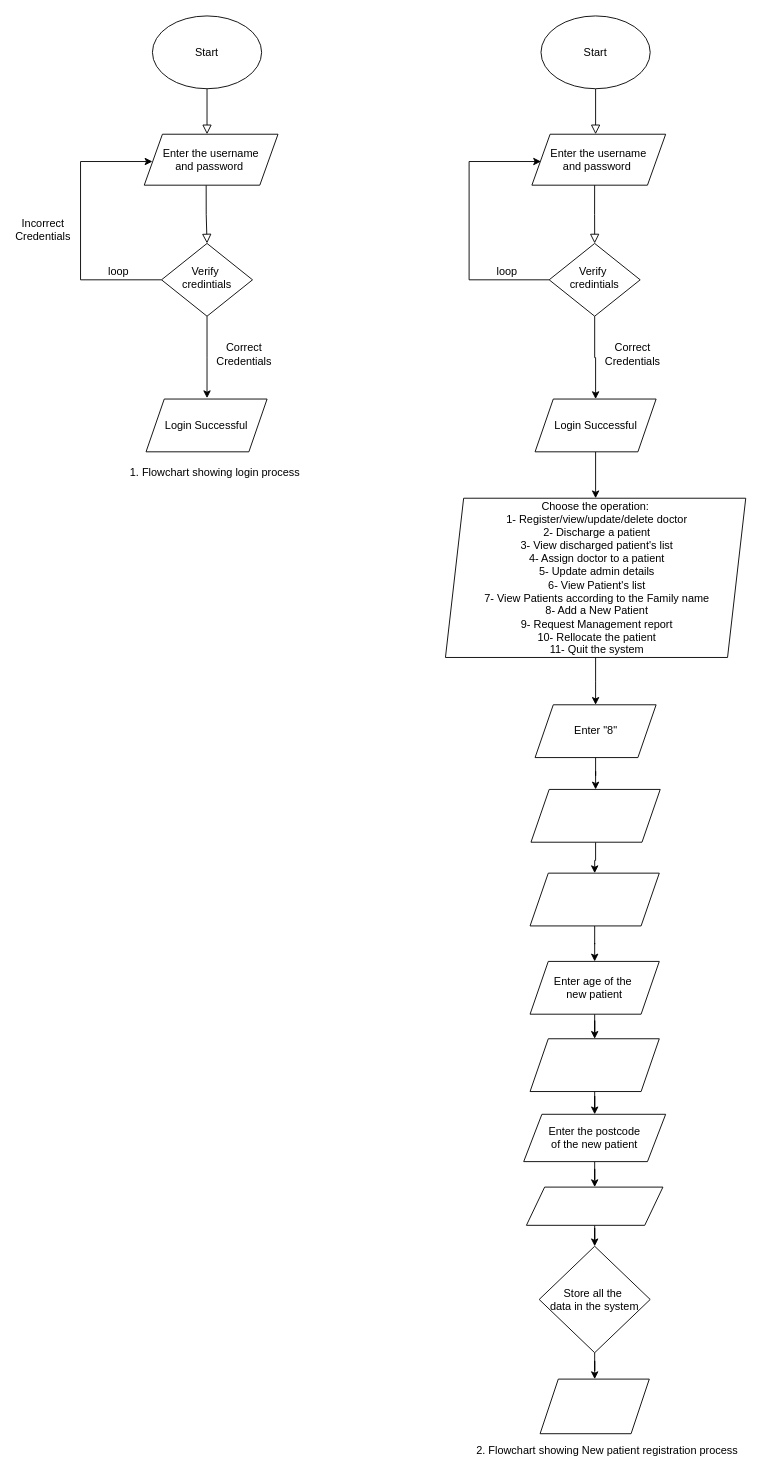
Image size: 762x1474. Some labels were removed from this diagram. The shapes that lost their labels are listed below. From the top down, each one's box as (x1, y1, x2, y2) in pixels, then its label:
(530, 789, 660, 842): Enter first name of the new patient
(529, 872, 659, 926): Enter surname of the new patient
(529, 1038, 659, 1092): Enter the mobile number of the new patient
(526, 1186, 663, 1225): Enter the symptoms
(539, 1378, 649, 1434): Display Patient Was Registered
